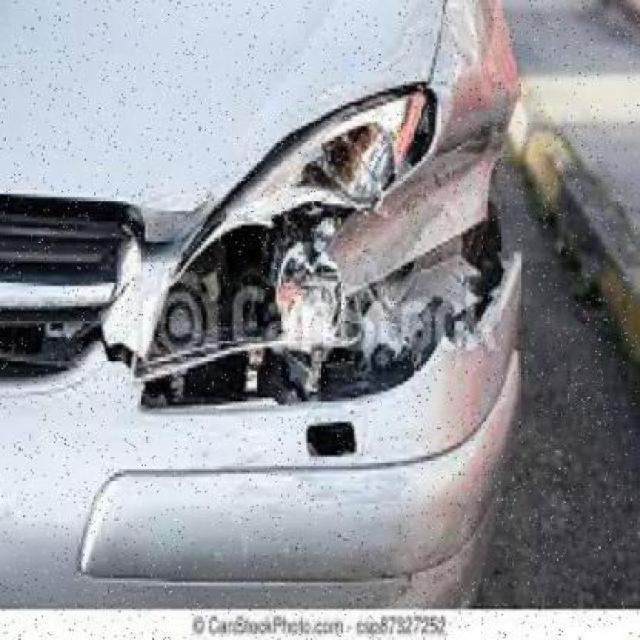Headlight-Damage: (100, 59, 521, 463)
